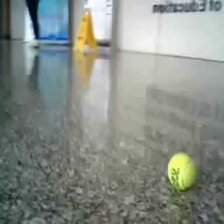tennis: (166, 152, 197, 190)
